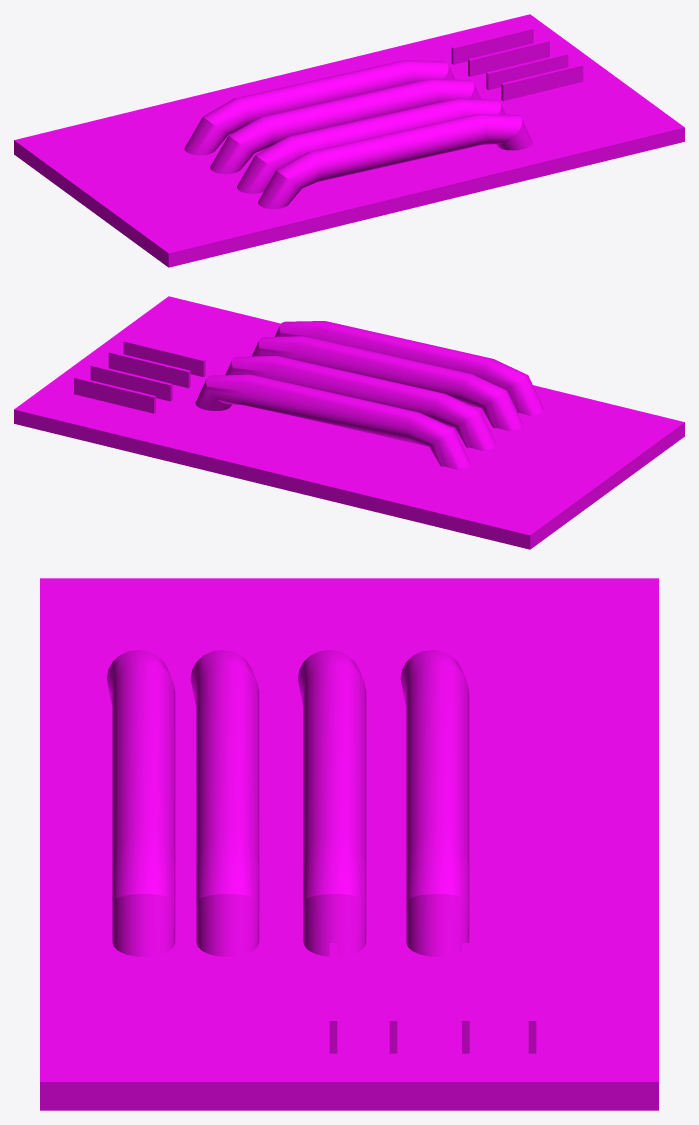
File: MotherboardRobot_1.obj
3 views of the same model, one above another, from view 1: azimuth 30°, elevation 25°; view 2: azimuth 150°, elevation 25°; view 3: azimuth 270°, elevation 25° (orthographic). The views are drawn at different scales.
Visible parts, largest first — view 1: group6_pasted__group_pasted__pasted__pCylinder1; view 2: group6_pasted__group_pasted__pasted__pCylinder1; view 3: group6_pasted__group_pasted__pasted__pCylinder1.
Boxes of the visible parts, bbox=[...] form: group6_pasted__group_pasted__pasted__pCylinder1: bbox=[14, 14, 684, 267]; group6_pasted__group_pasted__pasted__pCylinder1: bbox=[14, 296, 684, 549]; group6_pasted__group_pasted__pasted__pCylinder1: bbox=[40, 578, 658, 1110].
Size of the model in its own units: 11.32 by 1.14 by 5.88.
